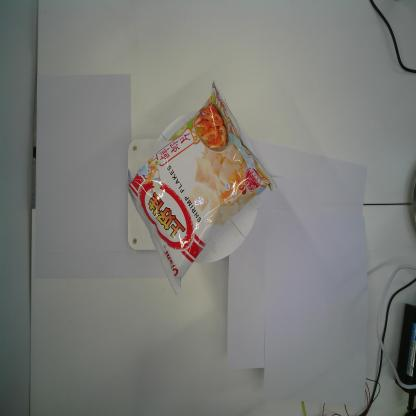Puffed Food: (125, 79, 278, 296)
